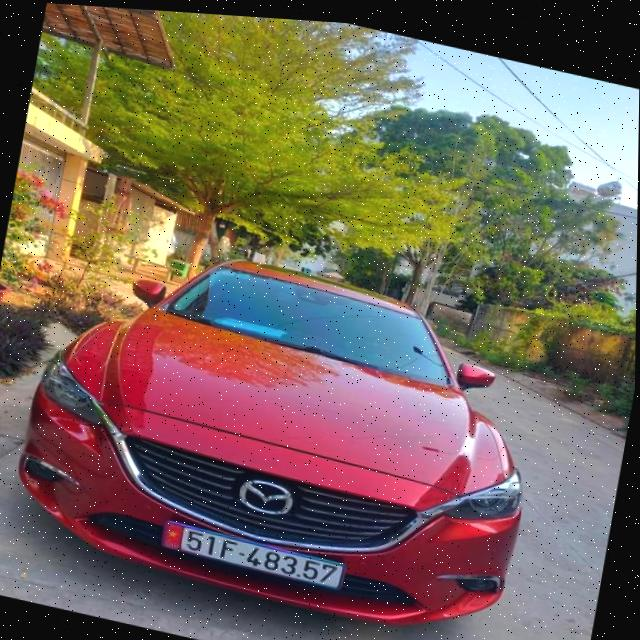car: (17, 211, 561, 640)
plate: (159, 514, 356, 601)
